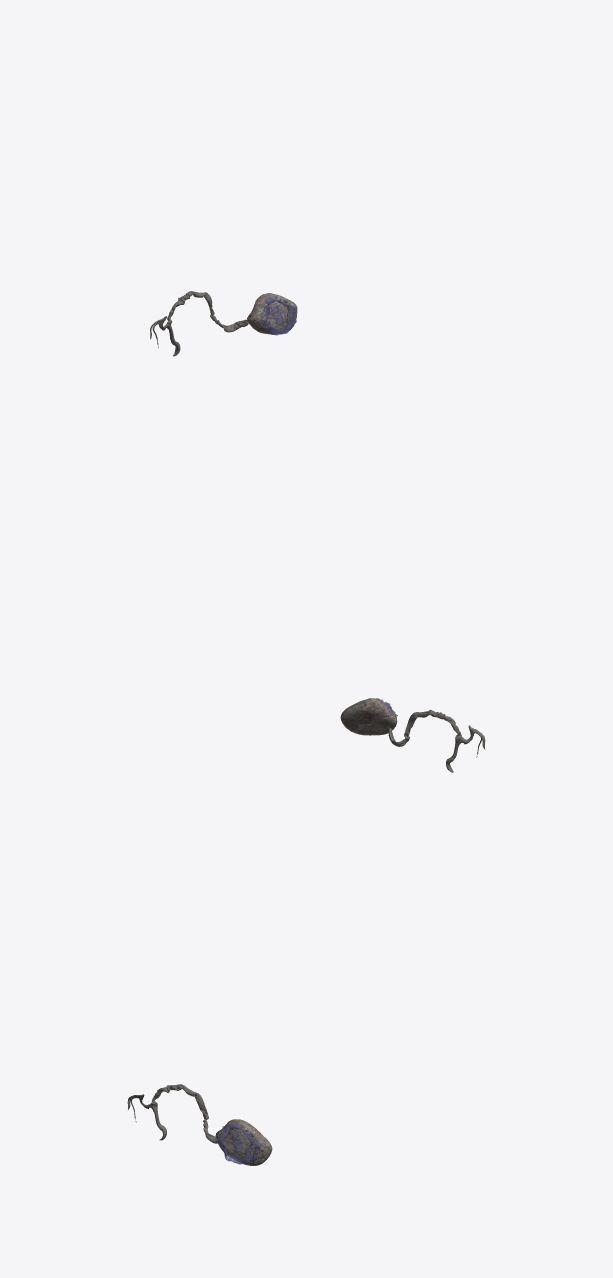
Rendered from info_btn-C6lctnqS.glb.
3 renders of one model, top to bottom at view 1: azimuth 30°, elevation 25°; view 2: azimuth 150°, elevation 25°; view 3: azimuth 330°, elevation 25°, orthographic.
Parts seen in each view (by area): view 1: body, mech; view 2: body; view 3: body, mech.
Boxes of the visible parts, <box> form: body: <box>150,291,297,356</box>; mech: <box>256,296,297,335</box>; body: <box>340,698,485,772</box>; body: <box>127,1084,272,1165</box>; mech: <box>215,1122,261,1164</box>.
Size of the model in its own units: 3.98 by 1.66 by 0.2964.
Materials: 4 (2 with a texture image).
